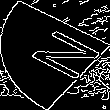N_SE: (11, 24, 99, 86)
